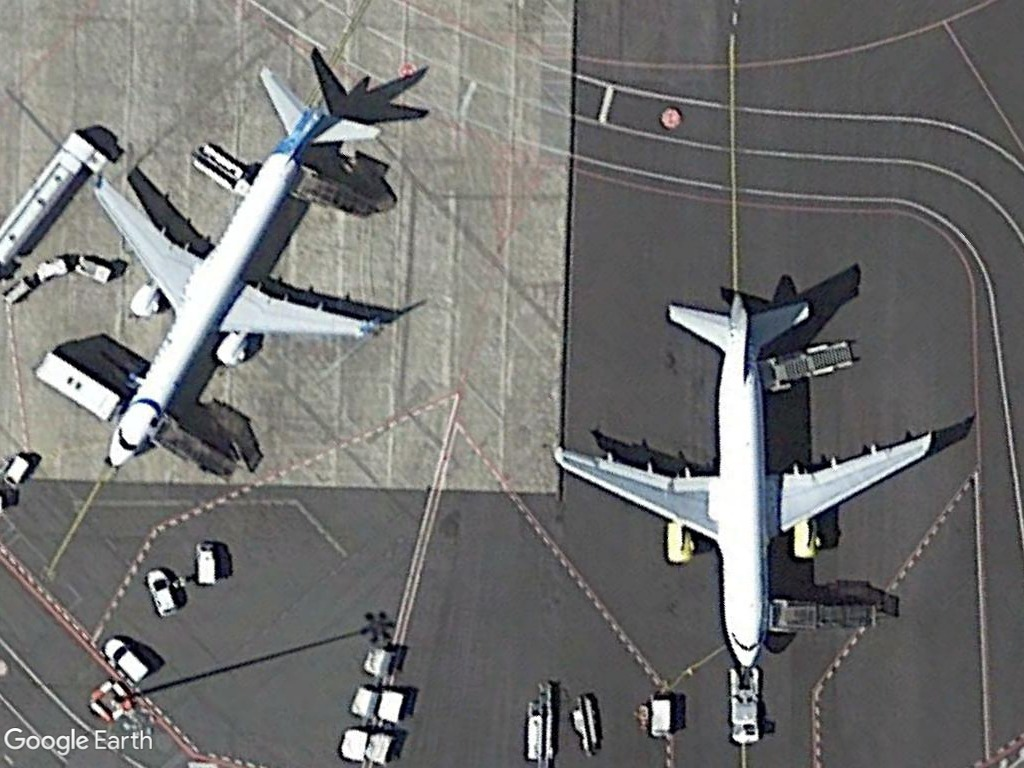airliner: (558, 277, 934, 667), (79, 56, 400, 481)
car: (142, 565, 181, 617)
pushbacktruck: (724, 665, 765, 743)
stairtruck: (188, 140, 250, 196)
van: (101, 635, 151, 685)
